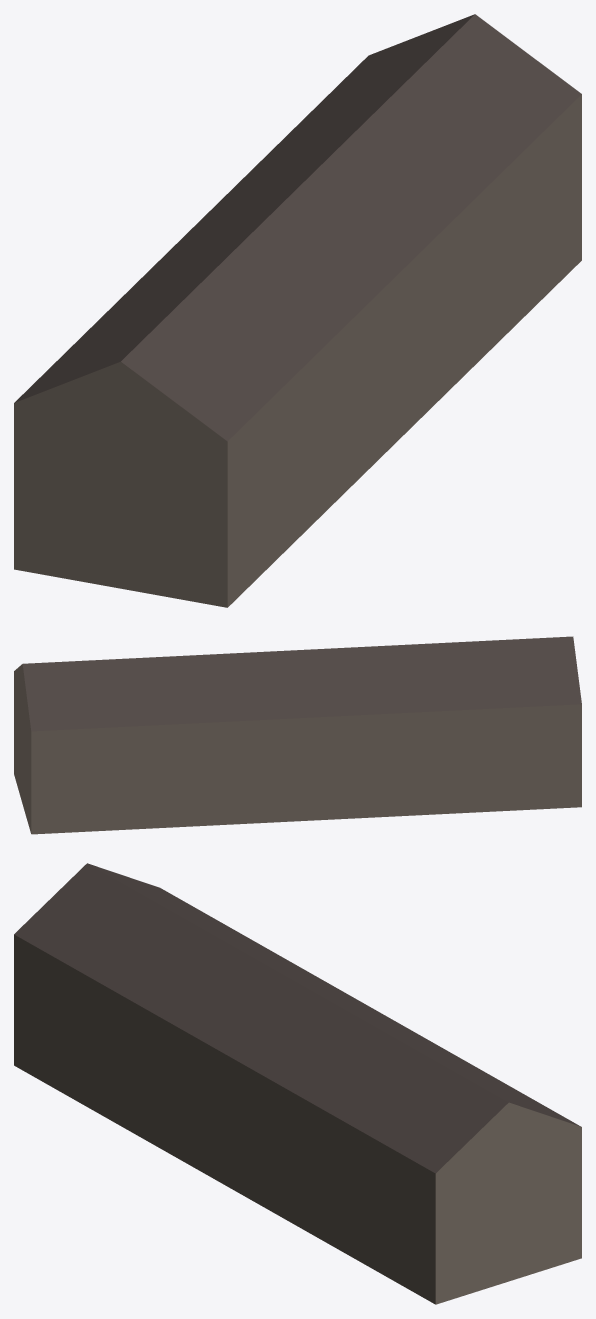
The picture shows the model from 3 angles, top to bottom: view 1: azimuth 30°, elevation 25°; view 2: azimuth 150°, elevation 25°; view 3: azimuth 270°, elevation 25°; orthographic projection. The views are drawn at different scales.
Visible parts, largest first — view 1: HP-w1435294176; view 2: HP-w1435294176; view 3: HP-w1435294176.
Boxes of the visible parts, x1=… form: HP-w1435294176: x1=14, y1=14, x2=581, y2=607; HP-w1435294176: x1=14, y1=636, x2=581, y2=834; HP-w1435294176: x1=14, y1=863, x2=581, y2=1304.
Bounding box in the file's own units: 28.03 × 8.19 × 23.55.
